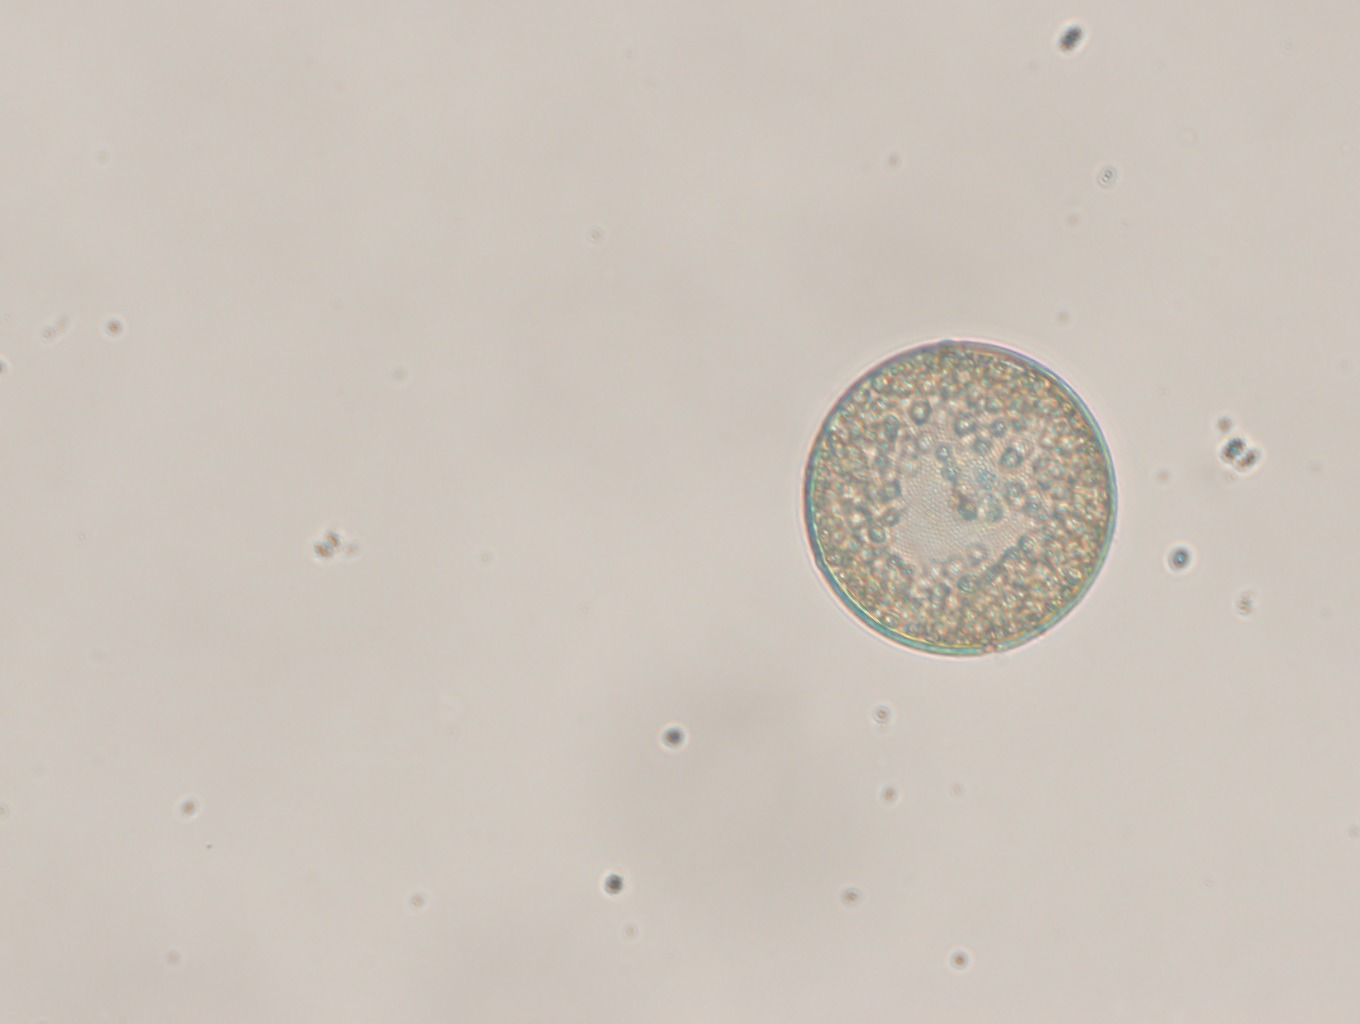coscinodiscus: (798, 335, 1123, 656)
